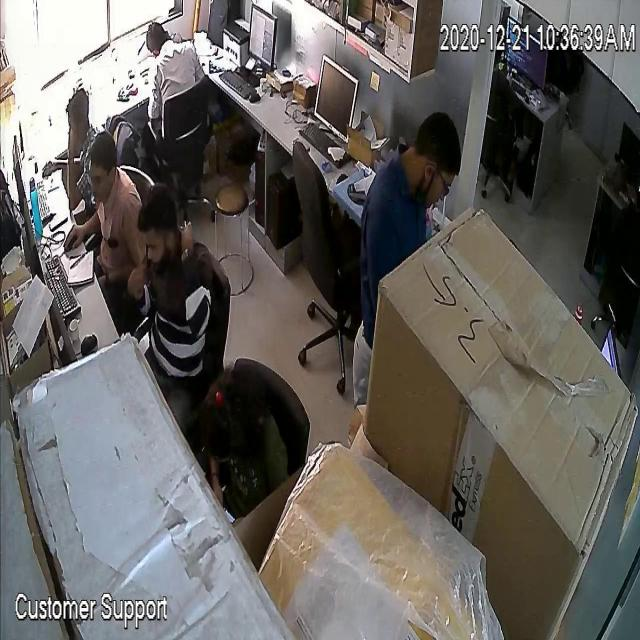chair: (286, 139, 362, 398), (156, 78, 216, 180), (194, 230, 236, 375), (600, 239, 640, 349), (121, 145, 159, 199), (104, 110, 140, 164)
keyboard: (298, 112, 349, 177), (44, 249, 82, 322), (218, 58, 260, 105), (34, 176, 57, 225), (507, 69, 532, 103)
monitor: (313, 52, 359, 148), (508, 17, 548, 100), (248, 1, 278, 75), (48, 295, 76, 366), (20, 200, 43, 286), (615, 118, 640, 182), (12, 138, 28, 204)
person: (356, 102, 460, 412), (138, 189, 207, 400), (66, 134, 146, 299), (208, 386, 288, 532), (488, 35, 524, 196), (142, 25, 203, 112), (59, 97, 97, 209), (617, 169, 640, 246)
